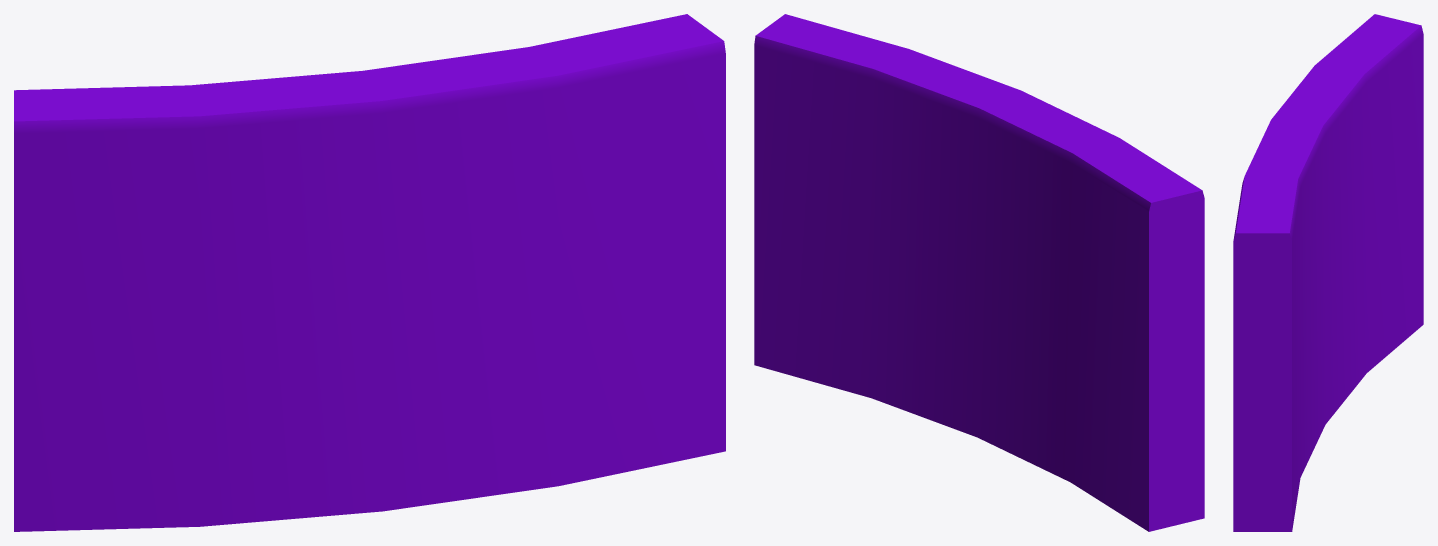
The model's file is RampN_C_15Deg_Right.fbx.
3 views of the same model, side by side, from view 1: azimuth 30°, elevation 25°; view 2: azimuth 150°, elevation 25°; view 3: azimuth 270°, elevation 25° (orthographic). The views are drawn at different scales.
Visible parts, largest first — view 1: RampN_C_15Deg_Right; view 2: RampN_C_15Deg_Right; view 3: RampN_C_15Deg_Right.
Part boxes in pixels (x1=…): RampN_C_15Deg_Right: x1=14, y1=14, x2=725, y2=531; RampN_C_15Deg_Right: x1=754, y1=14, x2=1204, y2=531; RampN_C_15Deg_Right: x1=1233, y1=14, x2=1423, y2=531.
Bounding box in the file's own units: 4.58 × 2.91 × 1.68.
